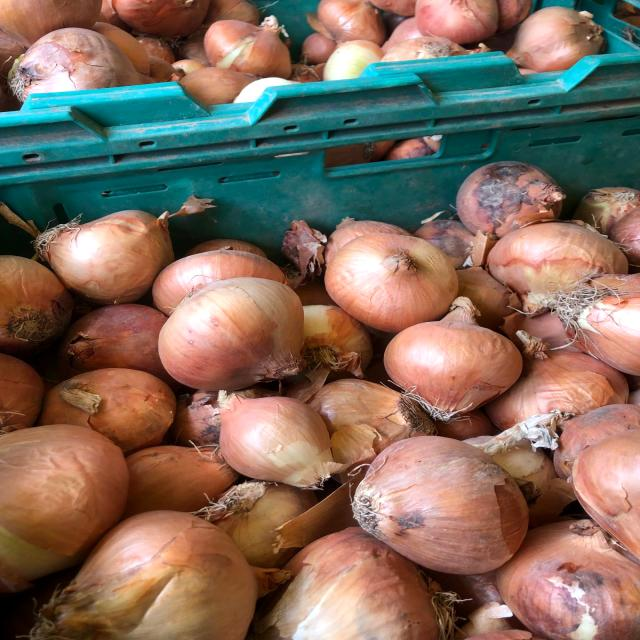onion: (337, 422, 564, 581), (374, 286, 534, 428), (145, 275, 320, 400), (193, 385, 355, 506), (482, 205, 626, 317), (320, 230, 471, 333), (29, 357, 184, 453), (509, 3, 612, 79), (204, 13, 305, 82)
